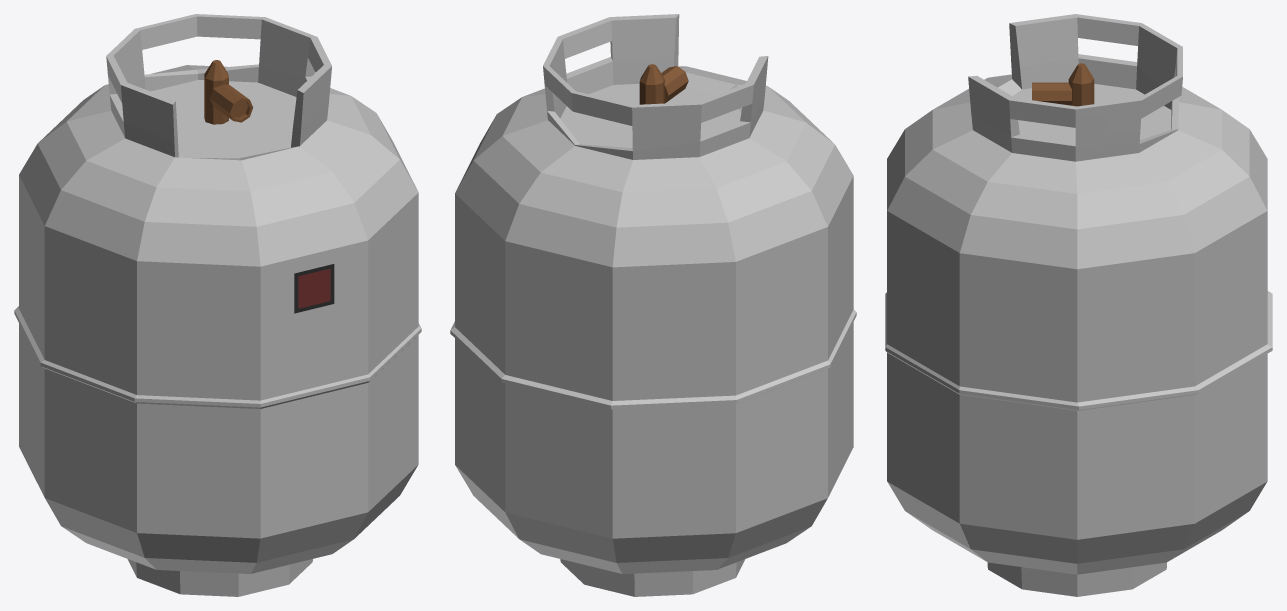
The model's file is PropaneTank.glb.
The picture shows the model from 3 angles, left to right: view 1: azimuth 30°, elevation 25°; view 2: azimuth 150°, elevation 25°; view 3: azimuth 270°, elevation 25°; orthographic projection.
Visible parts, largest first — view 1: White, Orange, Red, Black; view 2: White, Orange; view 3: White, Orange.
Boxes of the visible parts, left/top/right/bottom form: White: left=14, top=14, right=421, bottom=596; Orange: left=204, top=60, right=253, bottom=124; Red: left=298, top=268, right=330, bottom=308; Black: left=294, top=264, right=334, bottom=313; White: left=450, top=14, right=856, bottom=596; Orange: left=639, top=64, right=688, bottom=104; White: left=885, top=14, right=1272, bottom=596; Orange: left=1032, top=63, right=1094, bottom=106.
Size of the model in its own units: 2.16 by 2.89 by 2.05.
